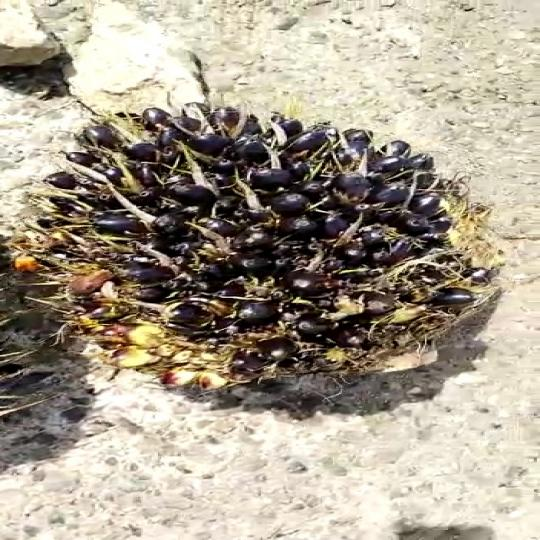mentah: (44, 77, 540, 395)
